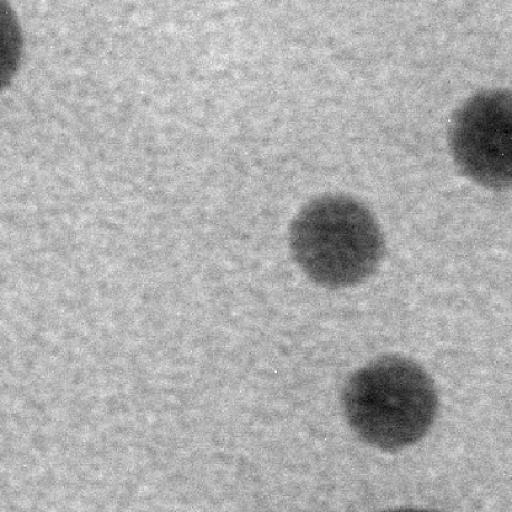Nanoparticles: (340, 348, 448, 458), (285, 194, 382, 285), (446, 83, 512, 194), (0, 0, 23, 95)
